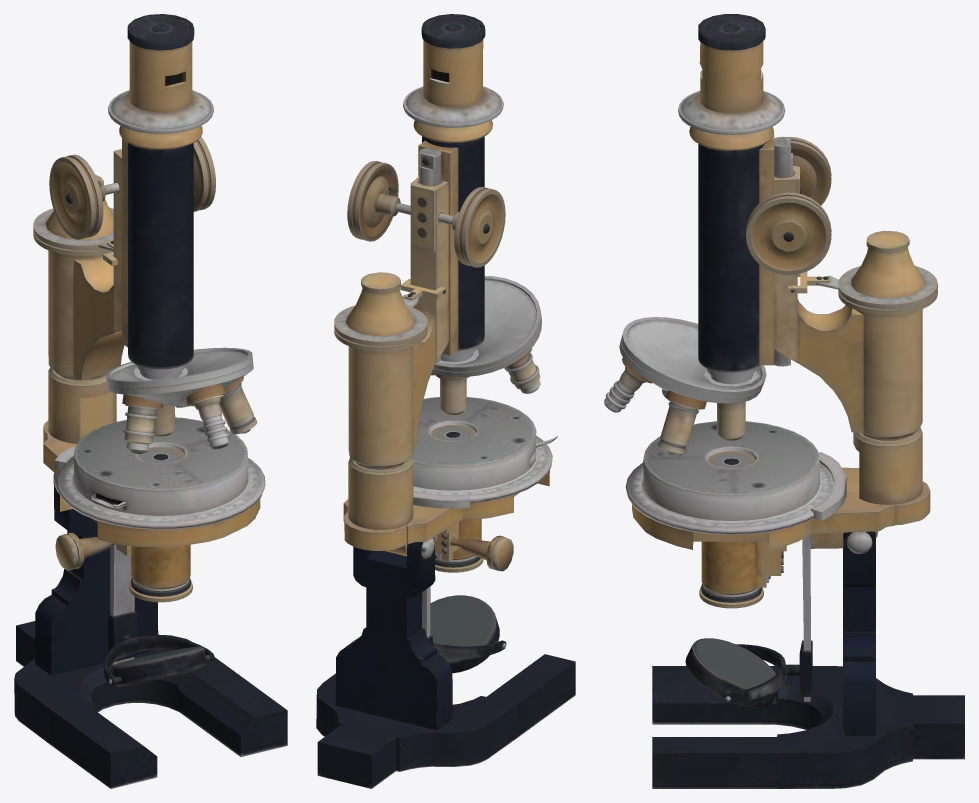
The model's file is vintage_microscope.glb.
3 renders of one model, left to right at view 1: azimuth 30°, elevation 25°; view 2: azimuth 150°, elevation 25°; view 3: azimuth 270°, elevation 25°, orthographic. The views are drawn at different scales.
Parts seen in each view (by area): view 1: vintage_microscope_rack_mount_support, vintage_microscope_eye_piece, vintage_microscope_base, vintage_microscope_revolver, vintage_microscope_adjustment, vintage_microscope_mirror_arm, vintage_microscope_condenser, vintage_microscope_mirror_base; view 2: vintage_microscope_rack_mount_support, vintage_microscope_base, vintage_microscope_eye_piece, vintage_microscope_adjustment, vintage_microscope_mirror_base, vintage_microscope_revolver, vintage_microscope_condenser, vintage_microscope_mirror_arm; view 3: vintage_microscope_rack_mount_support, vintage_microscope_base, vintage_microscope_eye_piece, vintage_microscope_adjustment, vintage_microscope_revolver, vintage_microscope_condenser, vintage_microscope_mirror_base, vintage_microscope_mirror_arm.
Part boxes in pixels (x1=…): vintage_microscope_rack_mount_support: x1=33, y1=149, x2=265, y2=570; vintage_microscope_eye_piece: x1=105, y1=14, x2=252, y2=388; vintage_microscope_base: x1=14, y1=473, x2=287, y2=788; vintage_microscope_revolver: x1=107, y1=362, x2=256, y2=453; vintage_microscope_adjustment: x1=49, y1=136, x2=215, y2=239; vintage_microscope_mirror_arm: x1=104, y1=544, x2=214, y2=685; vintage_microscope_condenser: x1=129, y1=446, x2=192, y2=602; vintage_microscope_mirror_base: x1=111, y1=646, x2=207, y2=686; vintage_microscope_rack_mount_support: x1=334, y1=176, x2=557, y2=571; vintage_microscope_base: x1=316, y1=537, x2=575, y2=788; vintage_microscope_eye_piece: x1=403, y1=14, x2=541, y2=371; vintage_microscope_adjustment: x1=347, y1=161, x2=505, y2=267; vintage_microscope_mirror_base: x1=430, y1=595, x2=499, y2=673; vintage_microscope_revolver: x1=431, y1=316, x2=541, y2=414; vintage_microscope_condenser: x1=430, y1=425, x2=483, y2=572; vintage_microscope_mirror_arm: x1=422, y1=586, x2=506, y2=659; vintage_microscope_rack_mount_support: x1=625, y1=166, x2=937, y2=575; vintage_microscope_base: x1=652, y1=531, x2=964, y2=788; vintage_microscope_eye_piece: x1=621, y1=14, x2=792, y2=397; vintage_microscope_adjustment: x1=746, y1=136, x2=831, y2=275; vintage_microscope_revolver: x1=604, y1=338, x2=762, y2=455; vintage_microscope_condenser: x1=699, y1=451, x2=770, y2=608; vintage_microscope_mirror_base: x1=685, y1=638, x2=778, y2=707; vintage_microscope_mirror_arm: x1=723, y1=534, x2=812, y2=702.
Size of the model in its own units: 0.1068 by 0.3996 by 0.1819.
2 materials, 2 textured.
